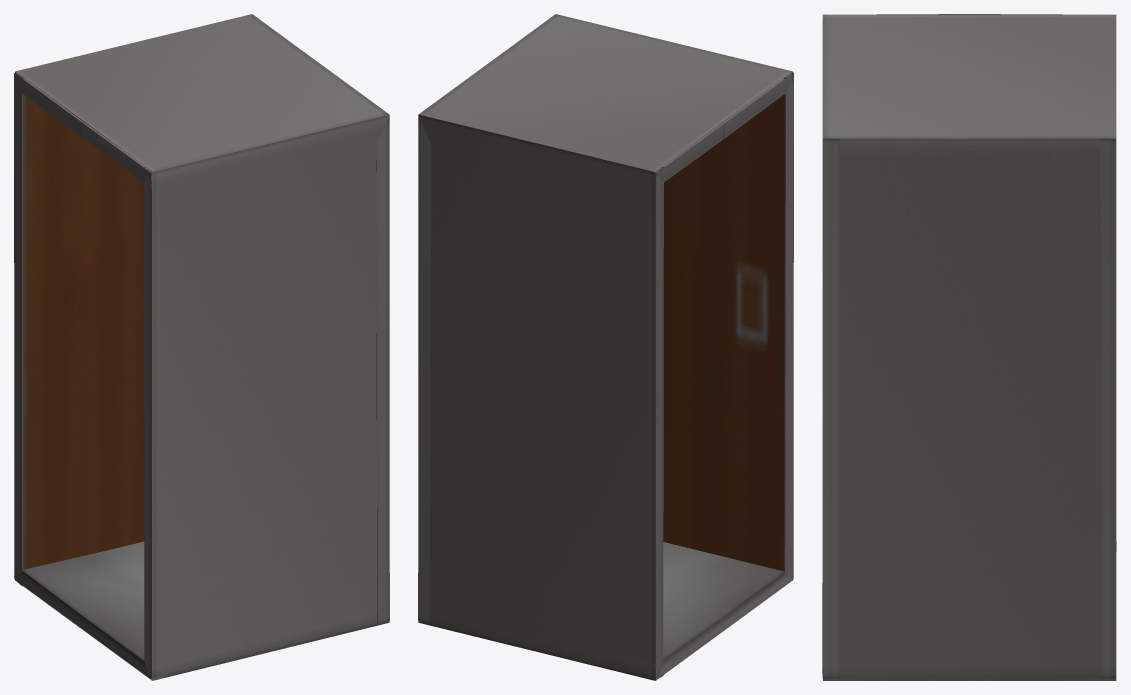
Rendered from elevator.obj.
The picture shows the model from 3 angles, left to right: view 1: azimuth 30°, elevation 25°; view 2: azimuth 150°, elevation 25°; view 3: azimuth 270°, elevation 25°; orthographic projection. The views are drawn at different scales.
Visible parts, largest first — view 1: Cube; view 2: Cube; view 3: Cube.
Part boxes in pixels (<box>): Cube: <box>14,14,389,680</box>; Cube: <box>418,14,793,680</box>; Cube: <box>822,14,1116,680</box>.
Size of the model in its own units: 9.9 by 20.19 by 9.89.
